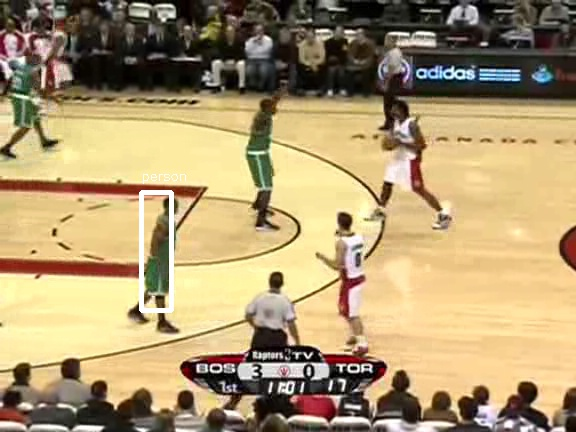person: (147, 214, 181, 295), (146, 214, 180, 295), (148, 214, 182, 295), (147, 213, 181, 294), (147, 215, 181, 296)
target_negative: (365, 190, 477, 425), (25, 237, 100, 394), (478, 295, 544, 358), (89, 257, 530, 263), (190, 383, 407, 395), (1, 63, 428, 65)
